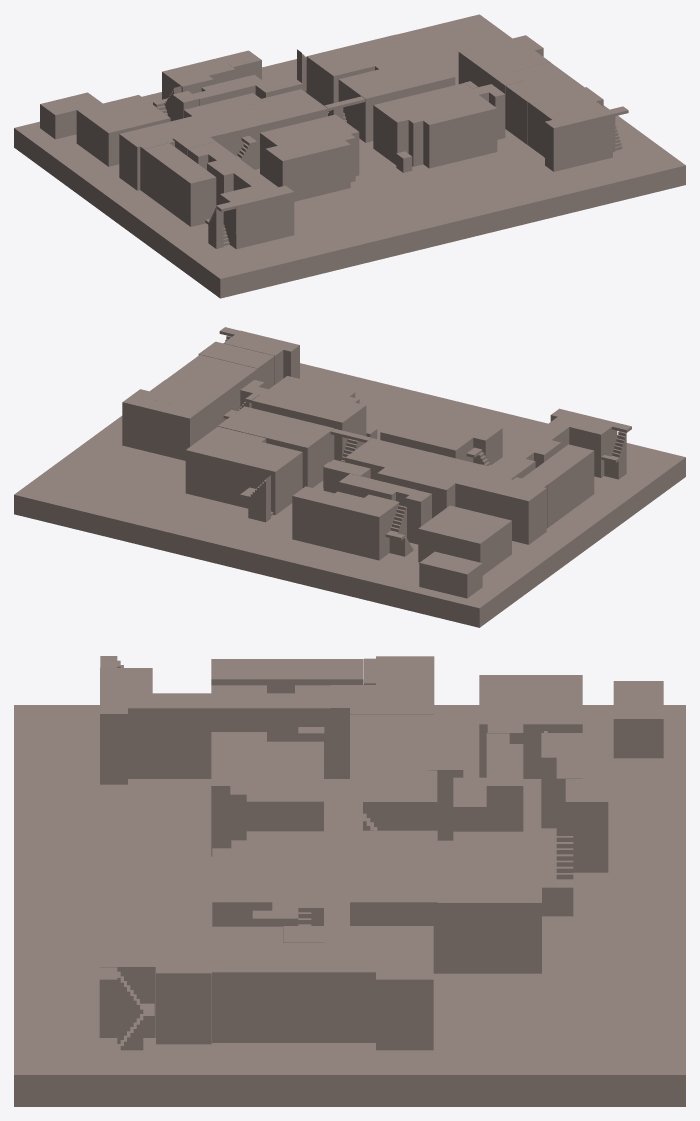
Rendered from OCH GF (2).glb.
3 renders of one model, top to bottom at view 1: azimuth 30°, elevation 25°; view 2: azimuth 150°, elevation 25°; view 3: azimuth 270°, elevation 25°, orthographic. The views are drawn at different scales.
Visible parts, largest first — view 1: Cube.005; view 2: Cube.005; view 3: Cube.005.
Part boxes in pixels (x1,y1,x2,y2): Cube.005: (14,14,685,298); Cube.005: (14,327,685,627); Cube.005: (14,656,685,1106).
Size of what is drawn, in the model's own units: 49.69 by 6.48 by 38.15.
